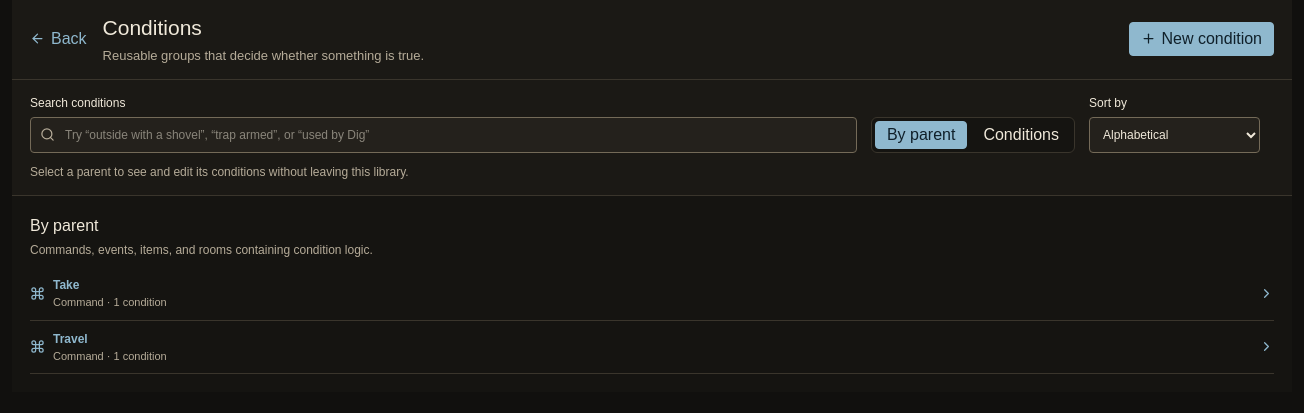
LogicLibraryWorkspace › searches the condition library by identifier and summary
Check: the heading "Conditions" is shown, box [103,16,202,39]
Click the button "Conditions": x=1021, y=135 [971,121,1071,149]
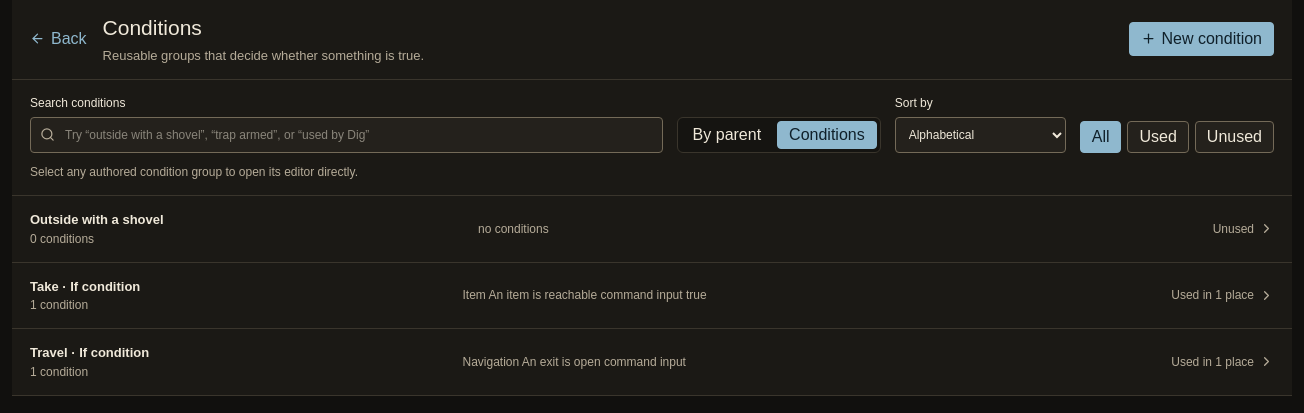
In the search field labelled "Search conditions": x=346, y=135 [30,117,663,153], type "outside-with-shovel"
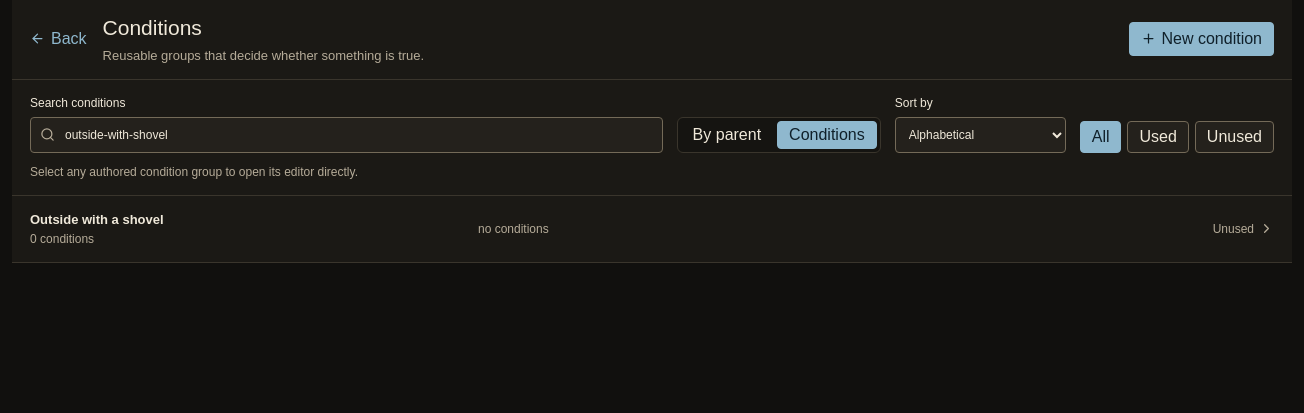
Replace the text in the search field labelled "Search conditions" with "does not exist": x=346, y=135 [30,117,663,153]
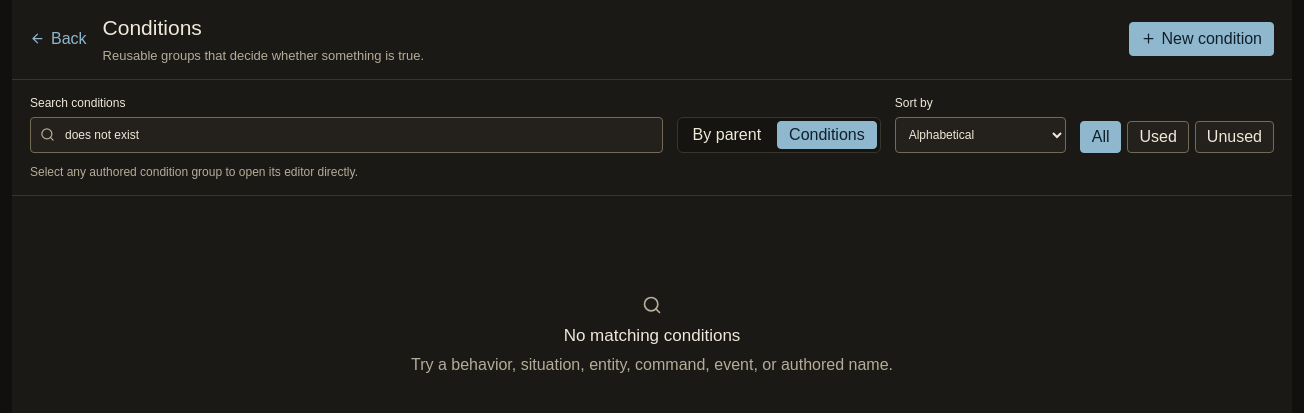
Check: the heading "No matching conditions" is shown, box [564,323,740,349]
